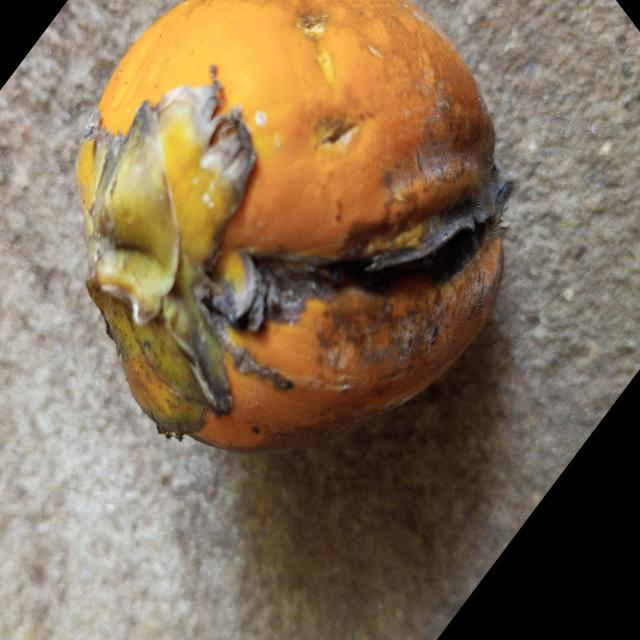damaged: (75, 0, 514, 456)
